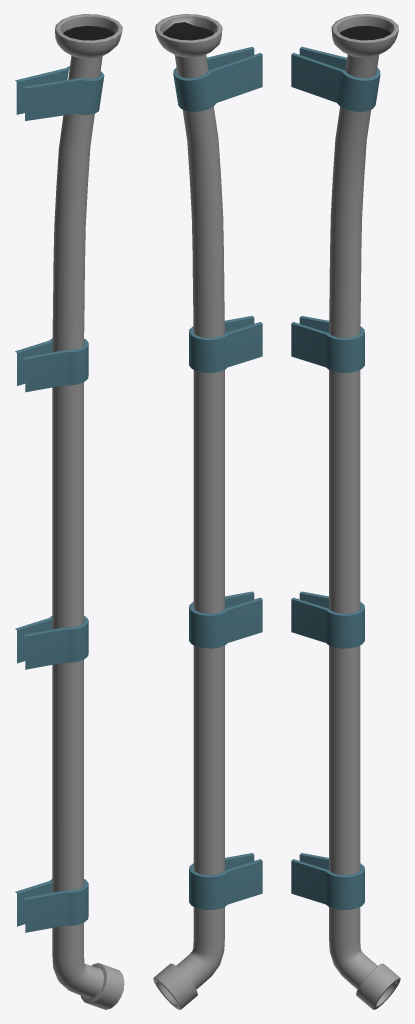
The model's file is City_10_Drain_pipe_1.glb.
The picture shows the model from 3 angles, left to right: view 1: azimuth 30°, elevation 25°; view 2: azimuth 210°, elevation 25°; view 3: azimuth 330°, elevation 25°; orthographic projection.
Visible parts, largest first — view 1: City_10_Drain_pipe_1; view 2: City_10_Drain_pipe_1; view 3: City_10_Drain_pipe_1.
Part boxes in pixels (x1,y1,x2,y2): City_10_Drain_pipe_1: [15, 14, 124, 1009]; City_10_Drain_pipe_1: [153, 14, 262, 1009]; City_10_Drain_pipe_1: [291, 14, 400, 1009].
Bounding box in the file's own units: 1.08 × 10.14 × 0.6431.
Materials: 1 (1 with a texture image).
